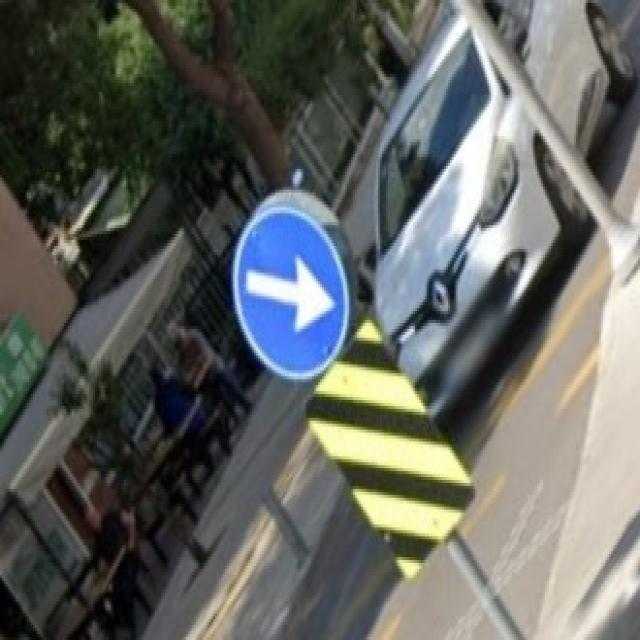Turn Right: (230, 217, 348, 386)
